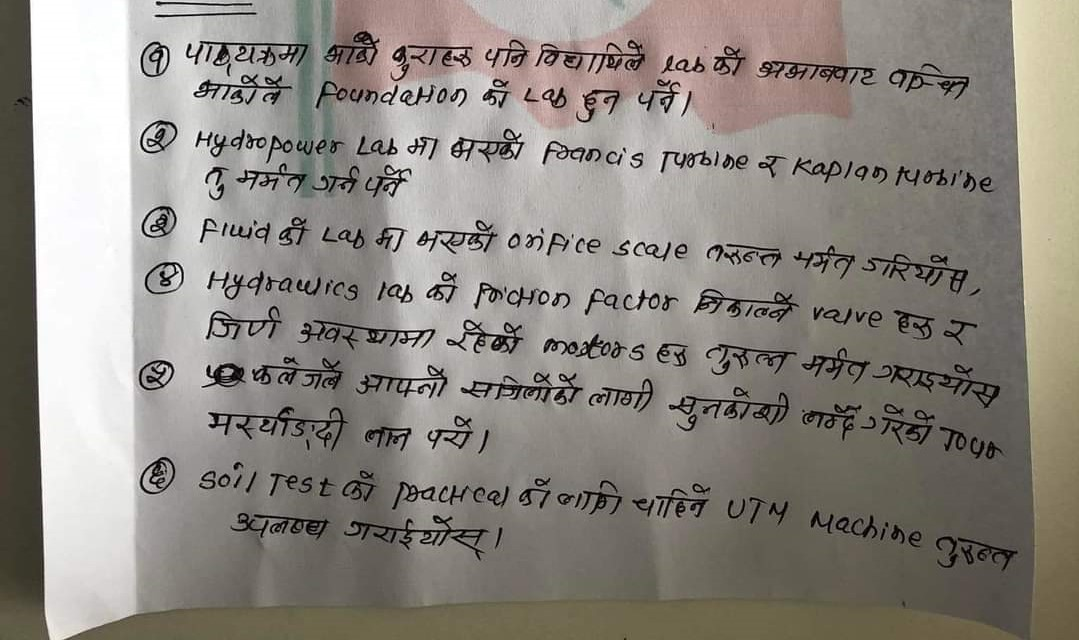text: (201, 403, 349, 455), (341, 514, 487, 561), (870, 362, 1003, 410), (667, 384, 793, 434), (861, 248, 969, 297), (296, 318, 436, 355), (457, 369, 581, 409), (533, 38, 647, 78), (754, 55, 875, 90), (692, 285, 795, 326), (182, 38, 311, 69), (248, 354, 346, 394), (933, 530, 1017, 576), (387, 40, 475, 83), (354, 365, 449, 402), (191, 74, 291, 109), (229, 509, 333, 542), (885, 62, 970, 102), (445, 318, 522, 362), (631, 479, 709, 522), (861, 404, 936, 448), (414, 219, 496, 258), (701, 342, 789, 378), (201, 304, 284, 342), (449, 125, 525, 166), (555, 478, 625, 519), (801, 398, 861, 443), (587, 376, 657, 414), (703, 242, 789, 272), (789, 244, 856, 282), (801, 347, 869, 383), (235, 162, 309, 195), (323, 30, 381, 68), (576, 86, 623, 128), (424, 414, 474, 451), (634, 78, 681, 117), (362, 165, 414, 198), (479, 36, 528, 71), (361, 426, 415, 454), (314, 165, 361, 197), (892, 308, 936, 342), (339, 469, 377, 506), (517, 475, 553, 513), (711, 42, 747, 78), (276, 216, 309, 251), (425, 270, 458, 305), (653, 340, 689, 372), (941, 316, 971, 352), (404, 134, 441, 163), (754, 151, 786, 184), (480, 78, 509, 114), (373, 225, 408, 254), (202, 165, 228, 203), (143, 126, 168, 152), (145, 462, 166, 491), (145, 46, 164, 78), (149, 212, 173, 236), (144, 365, 167, 389), (157, 268, 180, 289)
